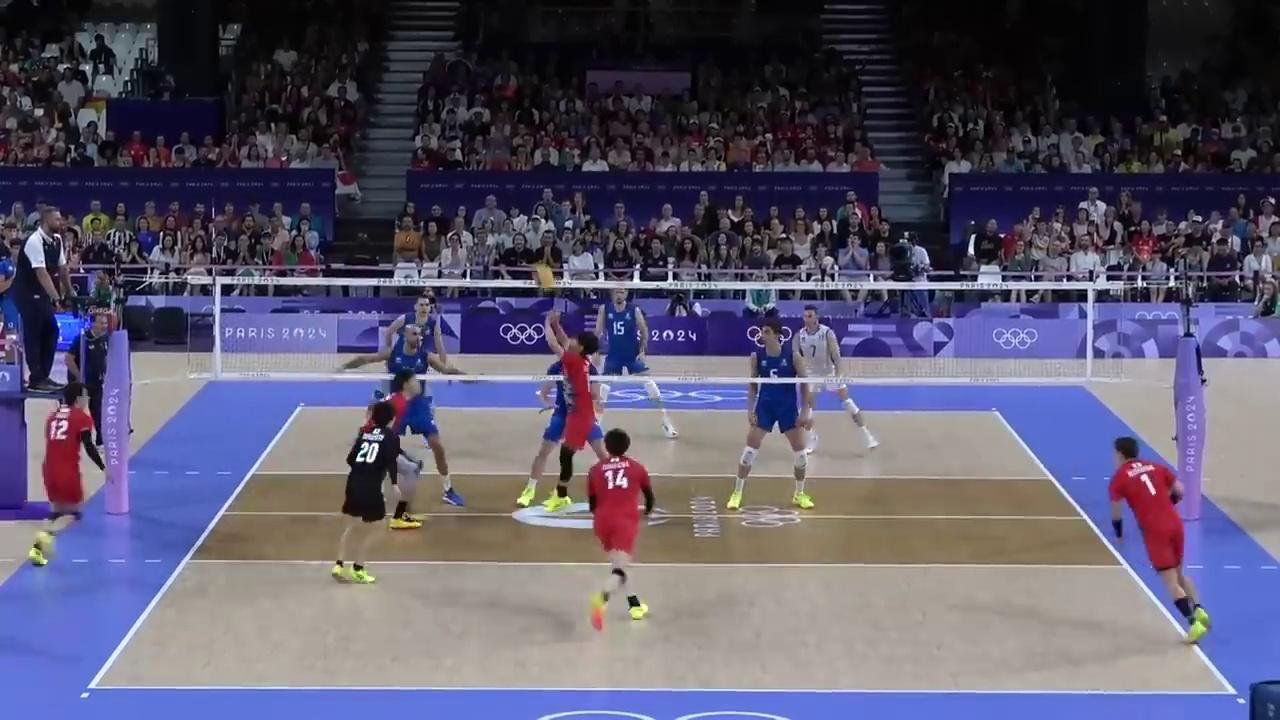ball: (534, 267, 556, 287)
